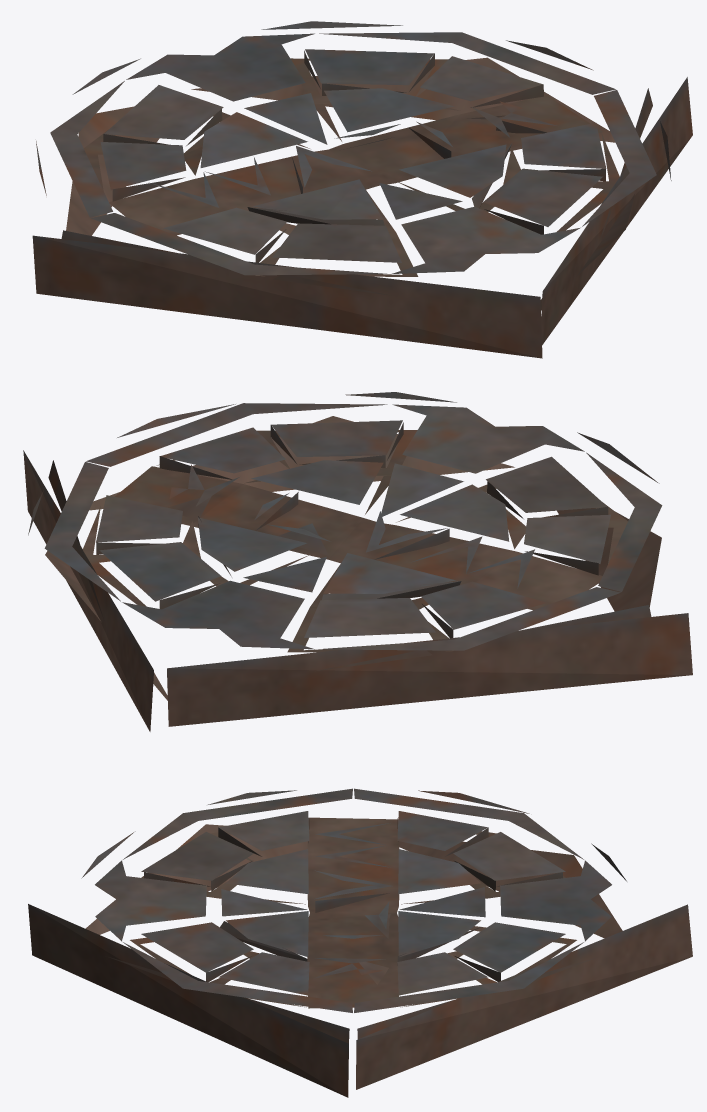
File: prop_manhole.glb
The picture shows the model from 3 angles, top to bottom: view 1: azimuth 30°, elevation 25°; view 2: azimuth 150°, elevation 25°; view 3: azimuth 270°, elevation 25°; orthographic projection. The views are drawn at different scales.
Parts seen in each view (by area): view 1: hull; view 2: hull; view 3: hull.
Part boxes in pixels (x1=…): hull: x1=32, y1=21, x2=692, y2=358; hull: x1=23, y1=392, x2=692, y2=731; hull: x1=28, y1=788, x2=692, y2=1097.
Bounding box in the file's own units: 2 × 0.1742 × 2.
Materials: 1 (1 with a texture image).
